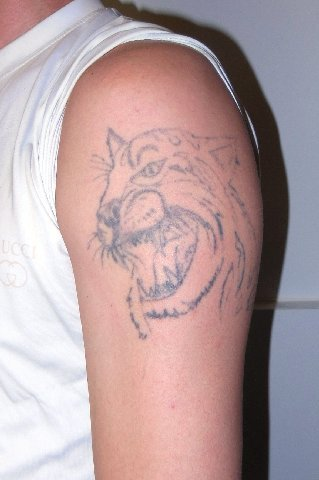tatu5_tigr: (87, 125, 253, 339)
